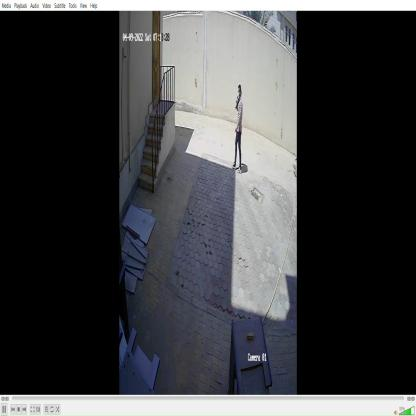handgun: (235, 89, 244, 114)
